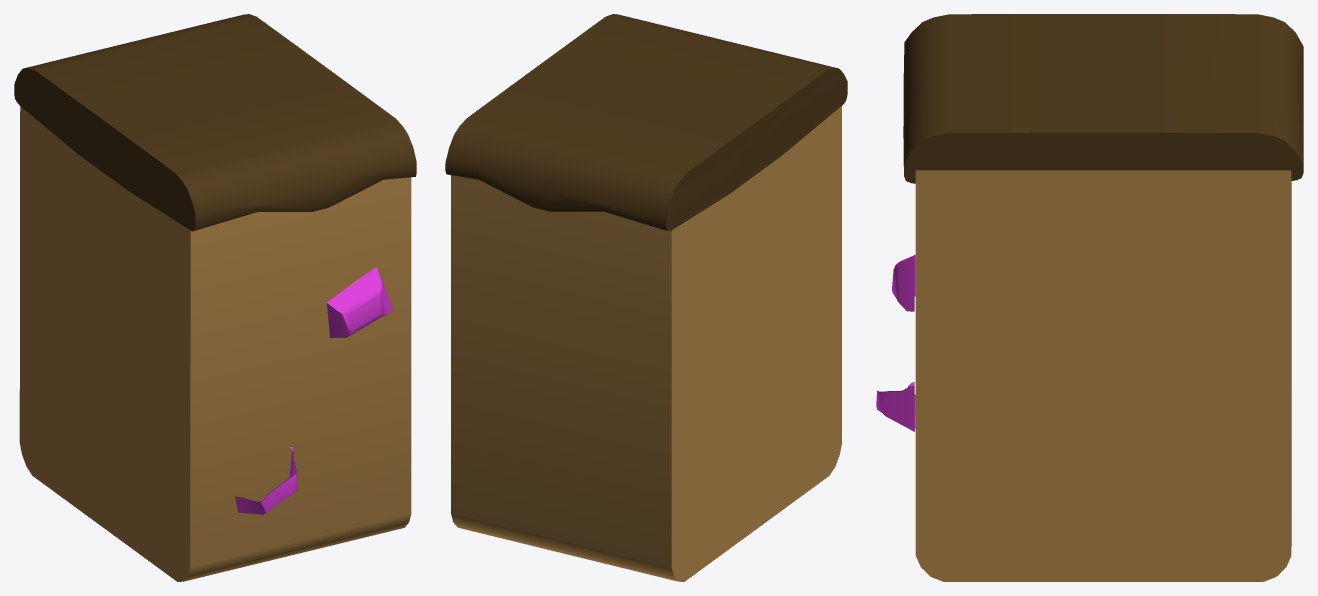
File: right_big_platform.fbx
3 views of the same model, side by side, from view 1: azimuth 30°, elevation 25°; view 2: azimuth 150°, elevation 25°; view 3: azimuth 270°, elevation 25° (orthographic). The views are drawn at different scales.
Parts seen in each view (by area): view 1: chocolate.032; view 2: chocolate.032; view 3: chocolate.032.
Part boxes in pixels (x1,y1,x2,y2): chocolate.032: [14, 14, 416, 581]; chocolate.032: [445, 14, 847, 581]; chocolate.032: [876, 14, 1303, 581].
Bounding box in the file's own units: 206 × 362 × 312.
